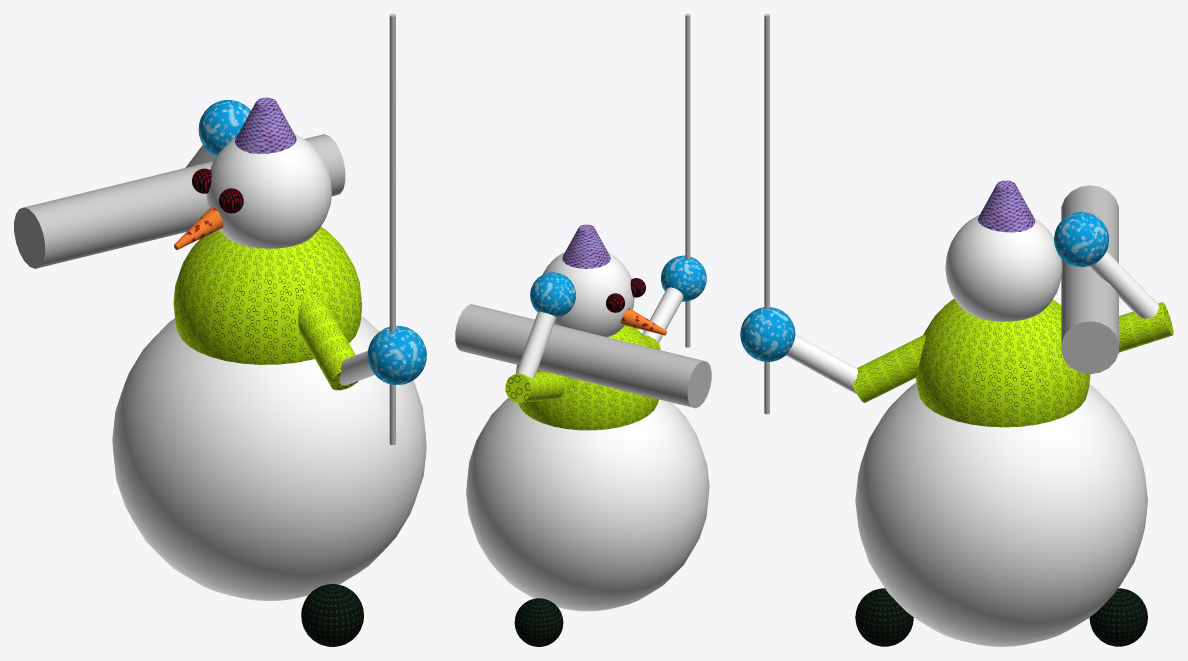
File: Player.fbx
3 views of the same model, side by side, from view 1: azimuth 30°, elevation 25°; view 2: azimuth 150°, elevation 25°; view 3: azimuth 270°, elevation 25° (orthographic). The views are drawn at different scales.
Parts seen in each view (by area): view 1: hip, body, weapon, head, Leg_Left, hand_left_1, hand_left_3, weapon_2, cap, hand_right_3, Nose, hand_left_2; view 2: hip, weapon, body, head, Leg_Rigt, weapon_2, hand_right_3, hand_rifgt_1, hand_left_3, cap, hand_rifgt_2, hand_left_2 (+1 smaller); view 3: hip, body, head, weapon, hand_left_1, Leg_Left, Leg_Rigt, hand_right_3, hand_left_3, weapon_2, cap, hand_rifgt_2 (+2 smaller).
Boxes of the visible parts, <box> form: hip: <box>112,316,426,600</box>; body: <box>173,227,362,364</box>; weapon: <box>14,134,345,268</box>; head: <box>206,133,331,248</box>; Leg_Left: <box>301,584,363,646</box>; hand_left_1: <box>298,294,358,390</box>; hand_left_3: <box>367,325,426,384</box>; weapon_2: <box>389,14,395,444</box>; cap: <box>235,97,296,153</box>; hand_right_3: <box>198,100,250,156</box>; Nose: <box>174,206,223,249</box>; hand_left_2: <box>339,351,374,385</box>; hip: <box>466,398,709,611</box>; weapon: <box>455,304,711,408</box>; body: <box>516,325,658,430</box>; head: <box>542,252,634,337</box>; Leg_Rigt: <box>514,598,563,646</box>; weapon_2: <box>685,14,690,347</box>; hand_right_3: <box>530,272,575,317</box>; hand_rifgt_1: <box>505,371,565,402</box>; hand_left_3: <box>661,255,706,301</box>; cap: <box>562,224,610,268</box>; hand_rifgt_2: <box>515,311,556,378</box>; hand_left_2: <box>642,287,683,342</box>; hip: <box>855,382,1147,646</box>; body: <box>916,298,1090,427</box>; head: <box>945,214,1062,321</box>; weapon: <box>1061,185,1118,374</box>; hand_left_1: <box>852,334,925,402</box>; Leg_Left: <box>855,588,913,646</box>; Leg_Rigt: <box>1089,588,1147,646</box>; hand_right_3: <box>1054,212,1108,267</box>; hand_left_3: <box>740,307,795,361</box>; weapon_2: <box>764,14,769,414</box>; cap: <box>978,180,1035,232</box>; hand_rifgt_2: <box>1089,251,1158,318</box>.
Size of the model in its own units: 120 by 237 by 148.
